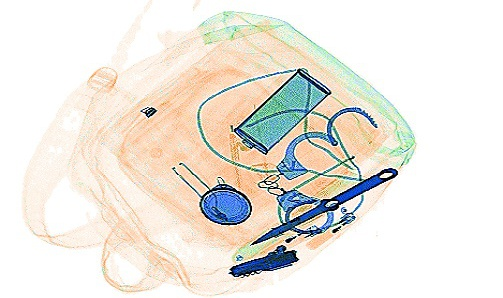handcuffs: (255, 104, 378, 235)
knife: (248, 164, 399, 245), (226, 246, 300, 279)
lighter: (257, 222, 321, 257), (304, 209, 358, 250)
zippooil: (231, 65, 333, 155)
